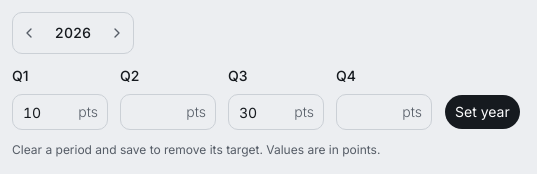
KPIS-B08 KPIS-A05 the year form offers the KPI cadence in order and pre-fills what is set
The width and height of the screenshot is (537, 174).
Expected: the text "2026" is shown, [55, 24, 91, 41]
What coordinates should you click on to do the following:
click the button named "Next year"
I would click on:
 (117, 33)
Its box is [103, 15, 131, 51].
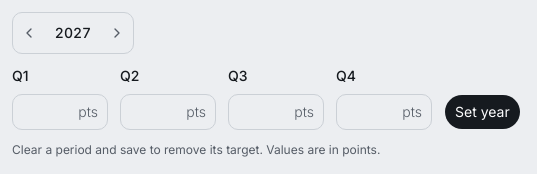
Expected: the text "2027" is shown, [55, 24, 91, 41]
